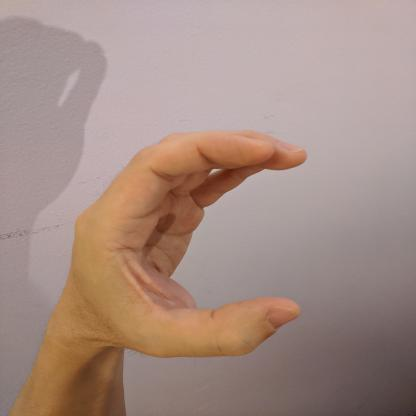C: (43, 126, 313, 363)
